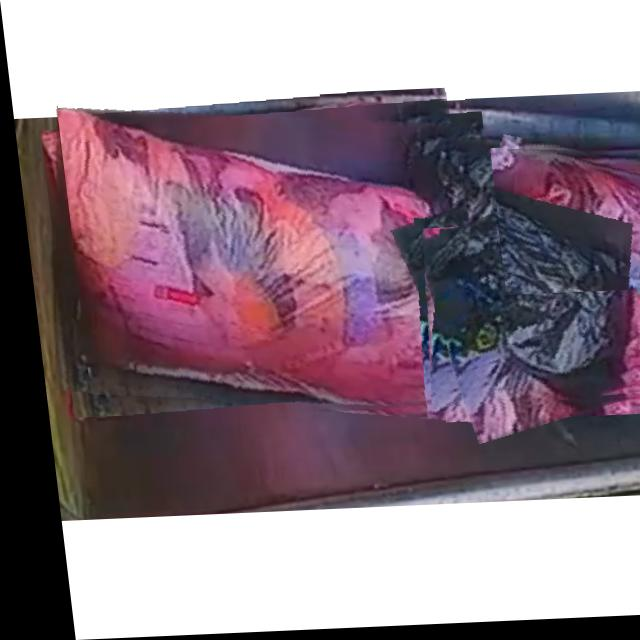other_trashbag: (54, 107, 487, 411), (417, 225, 625, 404), (488, 152, 640, 296)
